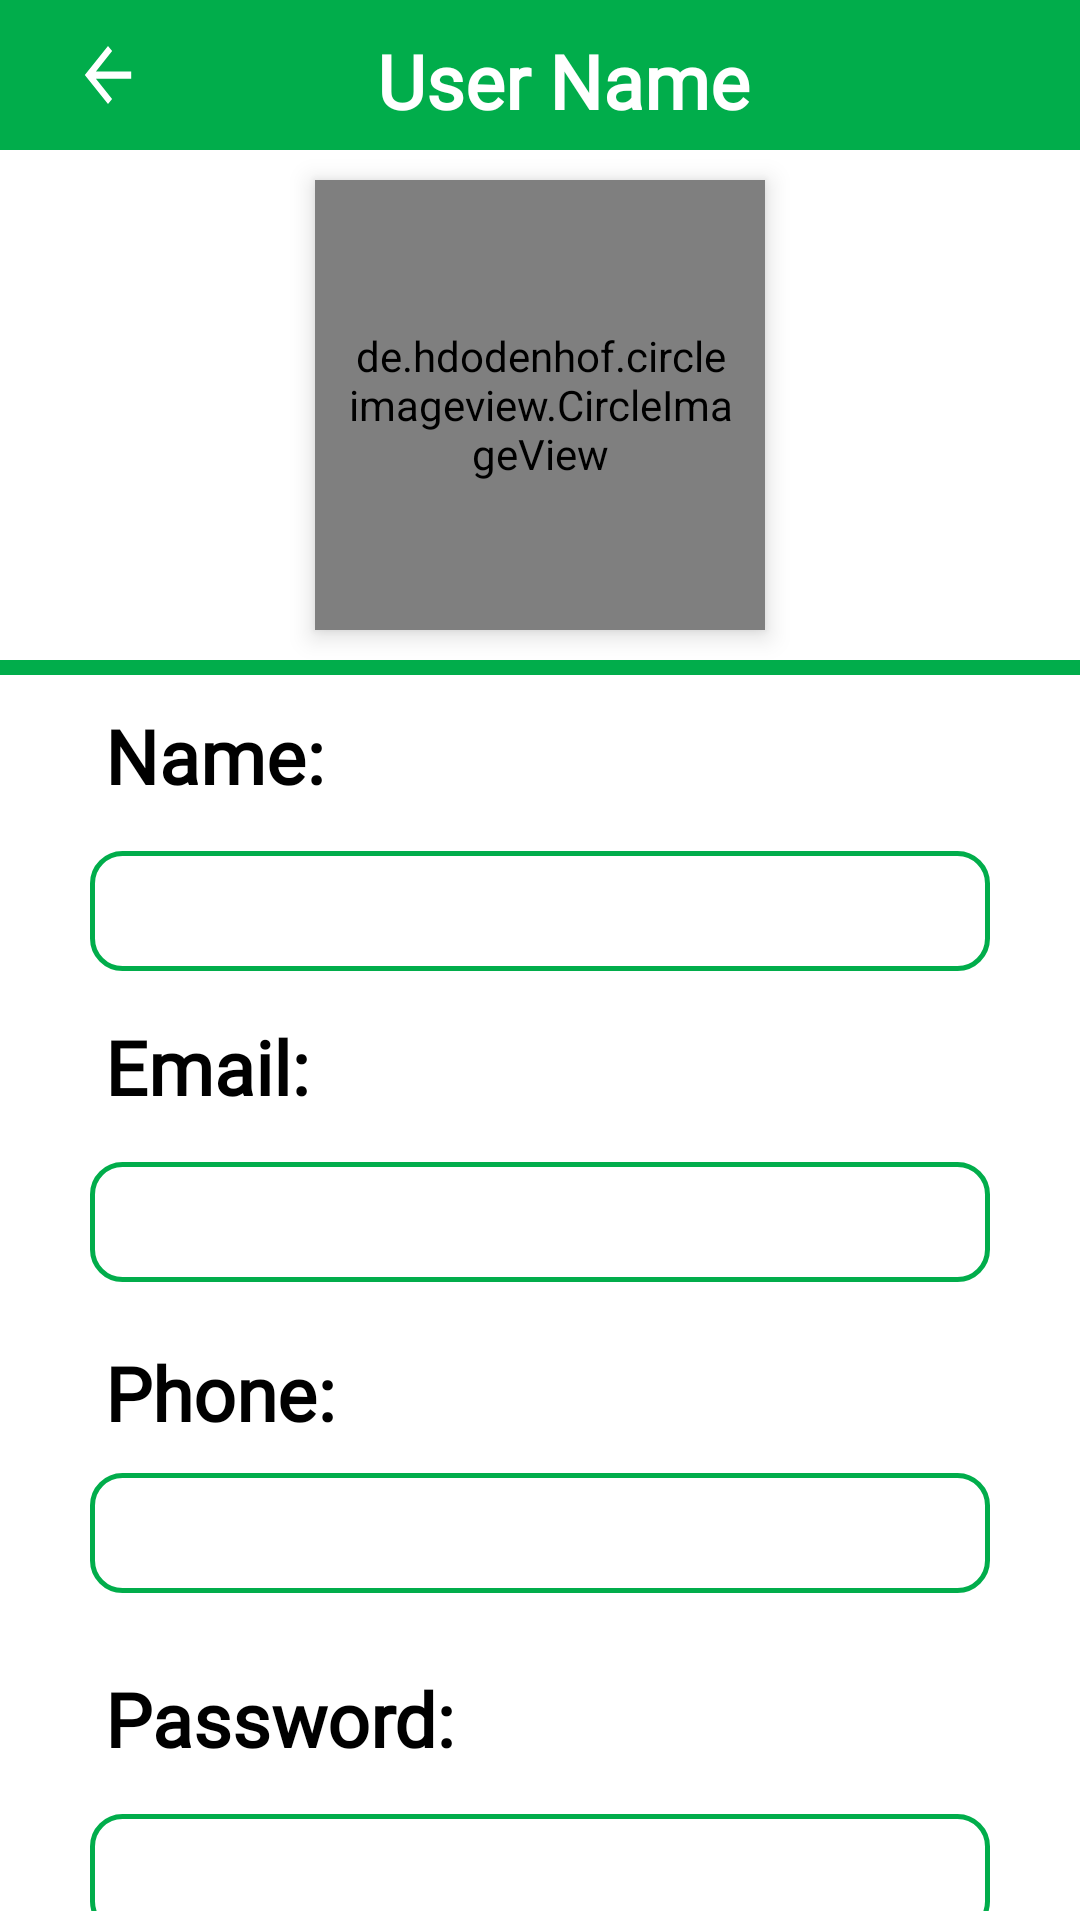

Named icons in this screenshot (1080 x 1920) and their bounding boxes, [x1, y1, x2, y2]:
back: [85, 46, 132, 104]
